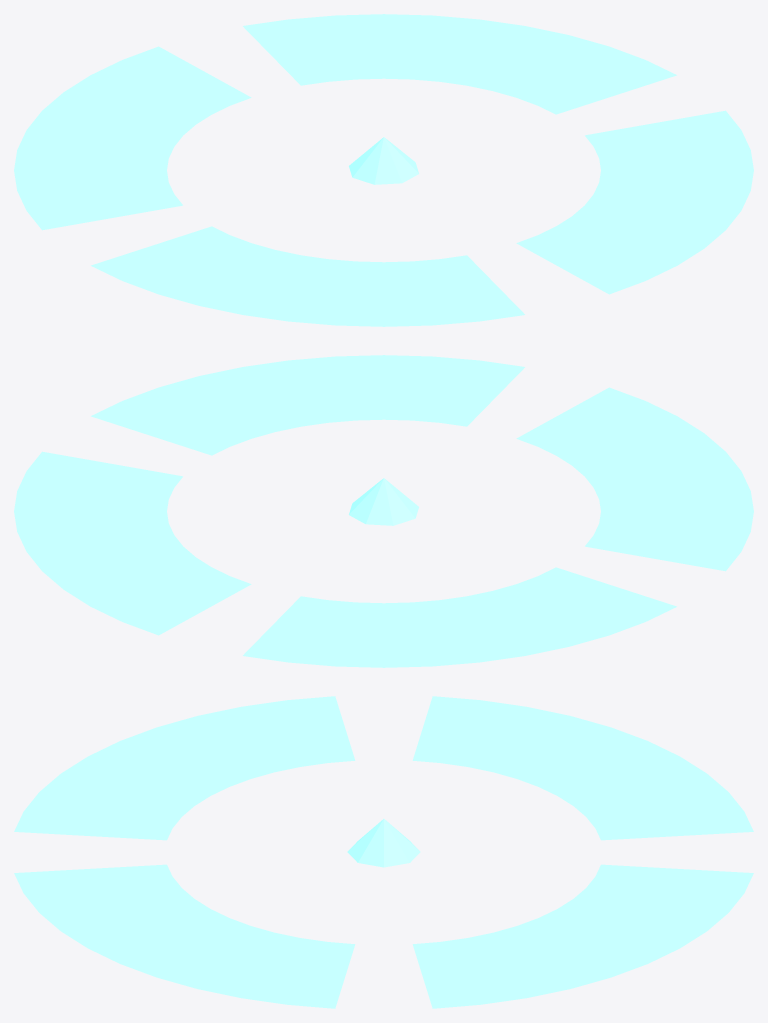
The model's file is reticle.glb.
The picture shows the model from 3 angles, top to bottom: view 1: azimuth 30°, elevation 25°; view 2: azimuth 150°, elevation 25°; view 3: azimuth 270°, elevation 25°; orthographic projection.
Parts seen in each view (by area): view 1: Torus; view 2: Torus; view 3: Torus.
Part boxes in pixels (bbox=[...]): Torus: bbox=[14, 14, 753, 326]; Torus: bbox=[14, 355, 753, 667]; Torus: bbox=[14, 696, 753, 1008].
Size of the model in its own units: 0.2797 by 0.0141 by 0.2797.
